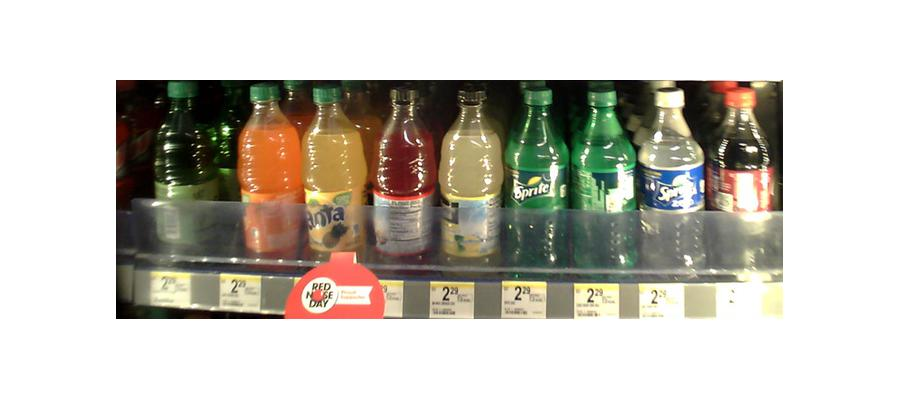bottle: (571, 80, 637, 274), (640, 80, 703, 274), (710, 83, 774, 272), (237, 81, 303, 263), (149, 80, 214, 259), (506, 85, 567, 271), (302, 84, 366, 261), (440, 87, 500, 272), (372, 87, 432, 263)
